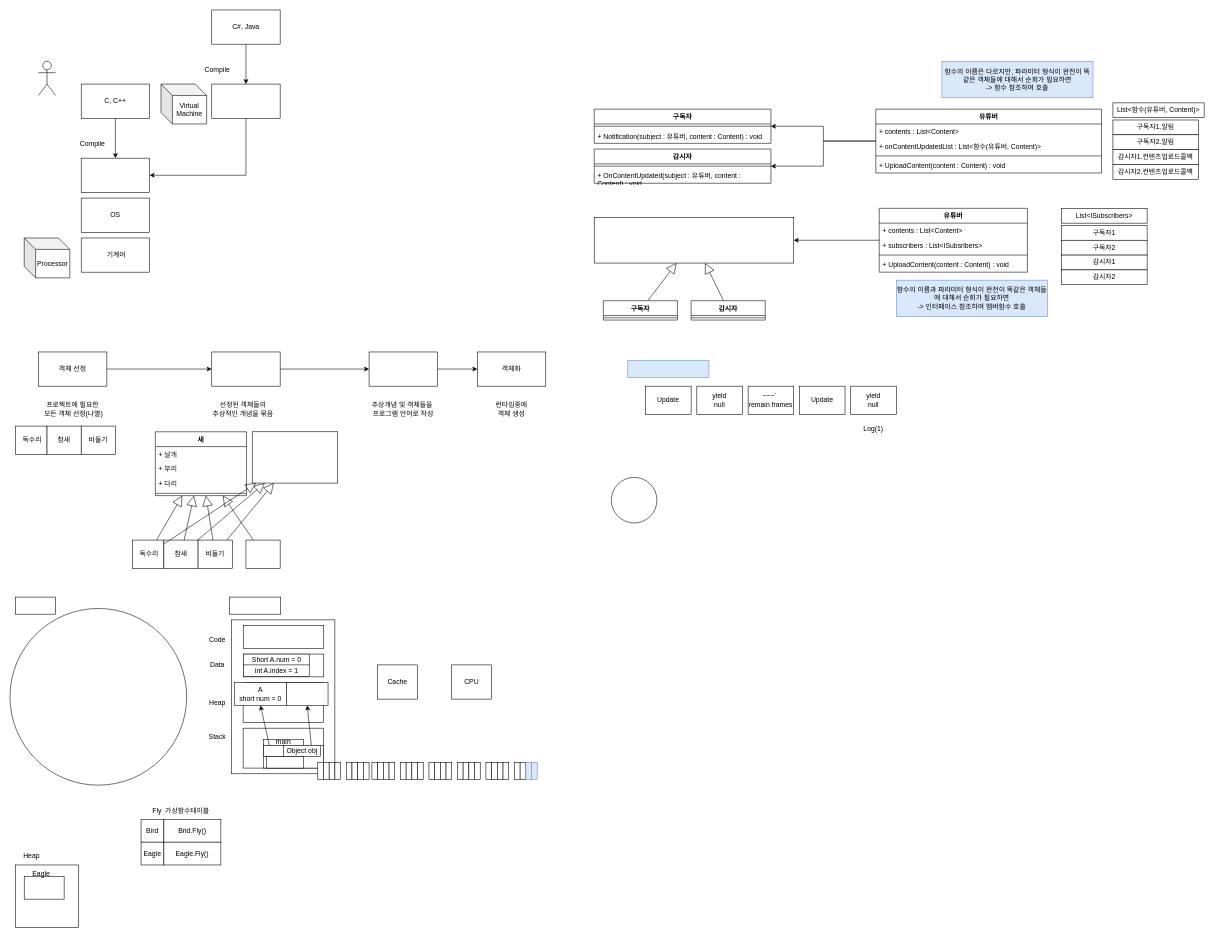
Some shapes in this 1214 by 938 pixel diagram are drawn without their labels. Each missing label, with the box of its shape:
A a: (263, 745, 286, 757)
Assembly L: (81, 158, 150, 192)
Developer: (38, 61, 56, 95)
Gam: (611, 477, 657, 523)
HDD: (15, 597, 56, 614)
int b: (266, 756, 304, 768)
Intermediate Language: (211, 84, 280, 118)
Object typeof(int) 3: (286, 682, 328, 705)
RAM: (229, 597, 281, 614)
StartCoroutine( 1 ~ 10): (627, 360, 709, 378)
«interface» IFlyable 날기() : void: (252, 431, 338, 483)
«interface» ISubscriber + Notification(subject : 유튜버, content : Content) : void: (594, 217, 794, 263)
추상화: (211, 351, 280, 386)
클래스화: (369, 351, 437, 386)
펭귄: (245, 540, 280, 569)
